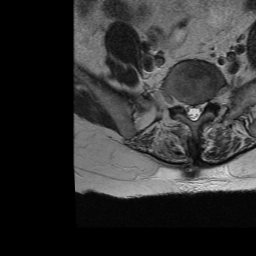CCS_stenosis: (189, 96, 196, 127)
LFS_severe_stenosis: (204, 91, 212, 113)
LLS_normal: (196, 96, 204, 121)
RFS_stenosis: (176, 93, 183, 114)
RLS_normal: (182, 94, 189, 124)
